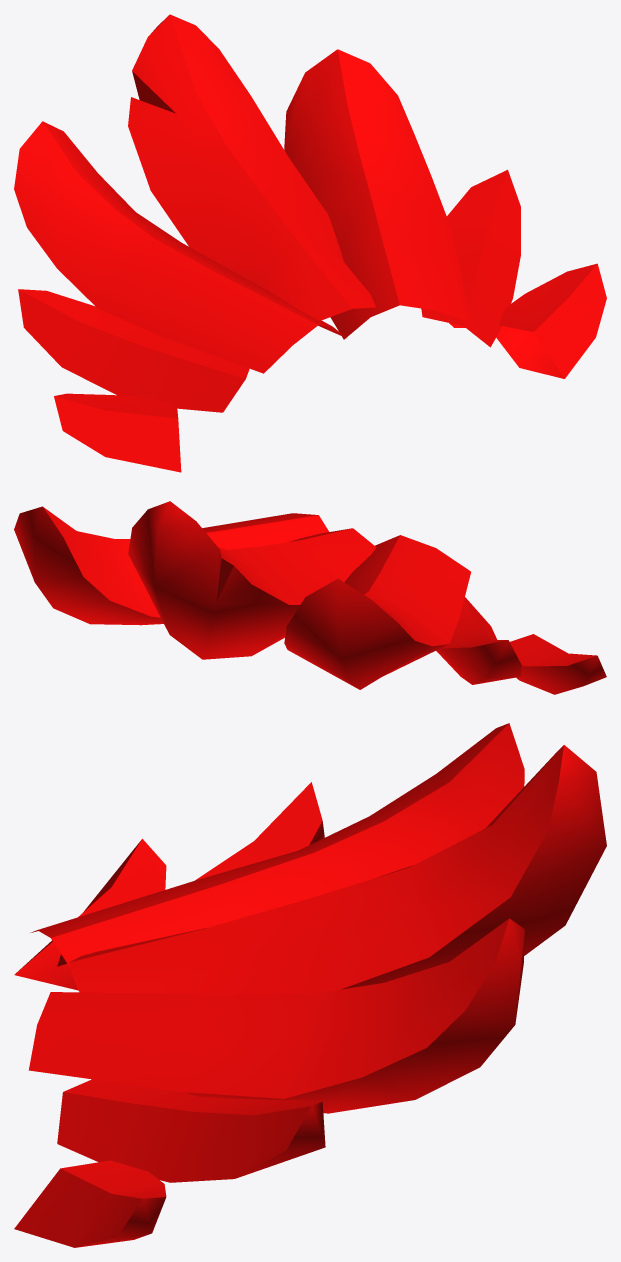
Rendered from harpy.glb.
3 views of the same model, one above another, from view 1: azimuth 30°, elevation 25°; view 2: azimuth 150°, elevation 25°; view 3: azimuth 270°, elevation 25° (orthographic). The views are drawn at different scales.
Parts seen in each view (by area): view 1: Crest_2; view 2: Crest_2; view 3: Crest_2.
Boxes of the visible parts, bbox=[...] form: Crest_2: bbox=[14, 14, 606, 472]; Crest_2: bbox=[14, 501, 606, 694]; Crest_2: bbox=[14, 723, 606, 1247].
Bounding box in the file's own units: 0.5442 × 0.2547 × 0.3784.
1 material, 1 textured.
